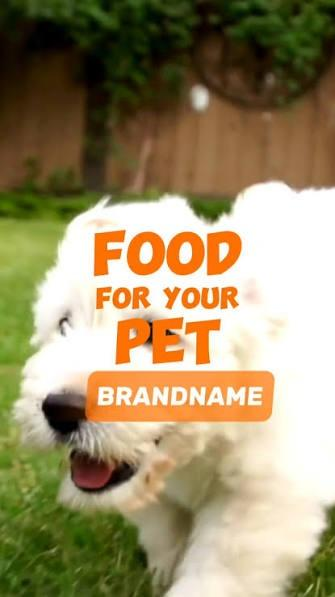adult_dog: (15, 182, 335, 597)
